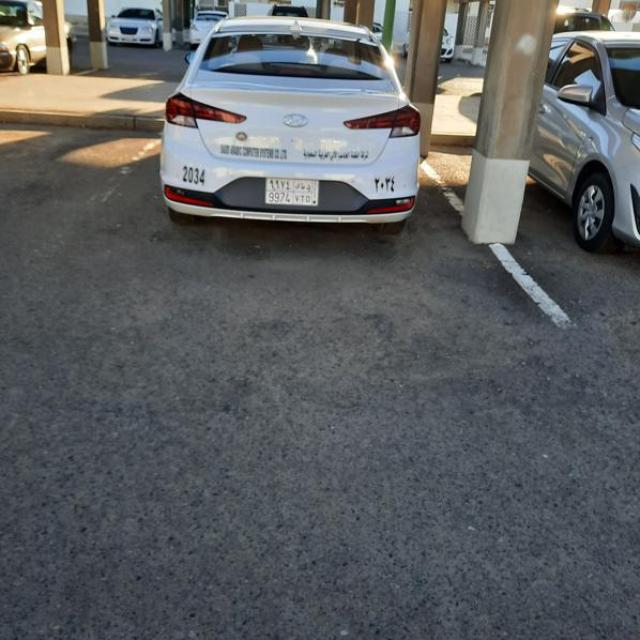license_plate: (265, 178, 318, 205)
